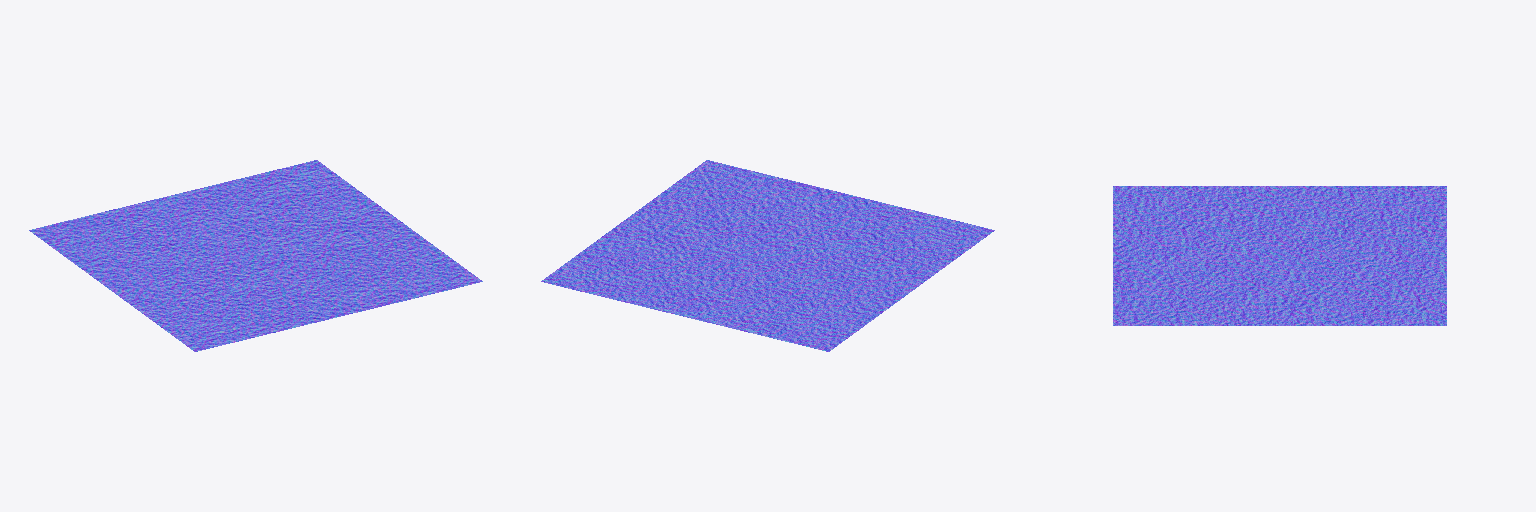
The picture shows the model from 3 angles: view 1: azimuth 30°, elevation 25°; view 2: azimuth 150°, elevation 25°; view 3: azimuth 270°, elevation 25°; orthographic projection.
Visible parts, largest first — view 1: Plane.001_Plane.002; view 2: Plane.001_Plane.002; view 3: Plane.001_Plane.002.
Part boxes in pixels (x1,y1,x2,y2): Plane.001_Plane.002: (29,160,482,351); Plane.001_Plane.002: (541,160,994,351); Plane.001_Plane.002: (1113,186,1446,325).
Size of the model in its own units: 109 by 0 by 109.
Materials: 1 (1 with a texture image).